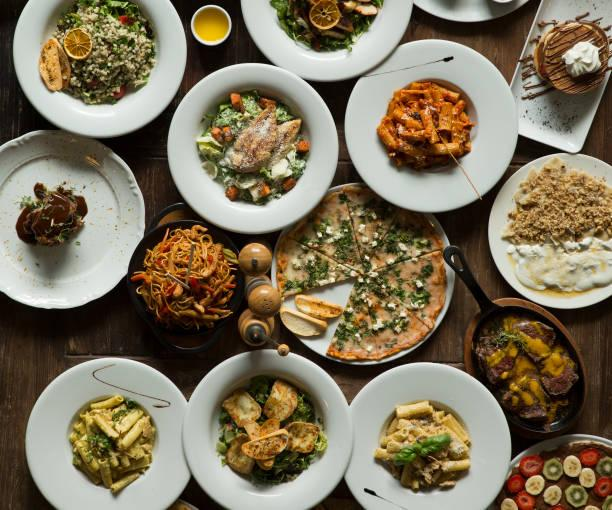Braised Crucian Carp: (272, 183, 451, 363), (344, 39, 516, 214), (167, 62, 336, 234), (182, 348, 350, 507), (2, 129, 144, 306), (24, 357, 190, 508), (342, 362, 510, 507), (12, 1, 186, 137), (487, 153, 609, 308), (125, 212, 246, 350), (464, 298, 585, 430), (508, 0, 610, 152), (239, 1, 412, 82)
